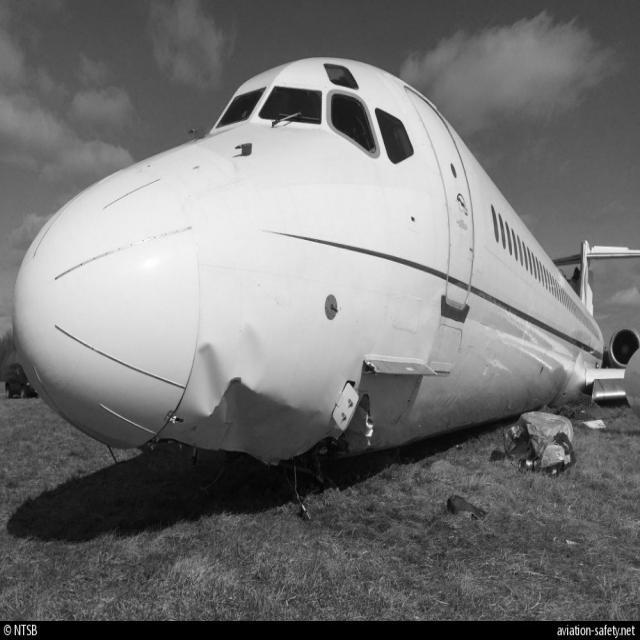dent: (196, 341, 229, 414), (241, 327, 268, 387)
